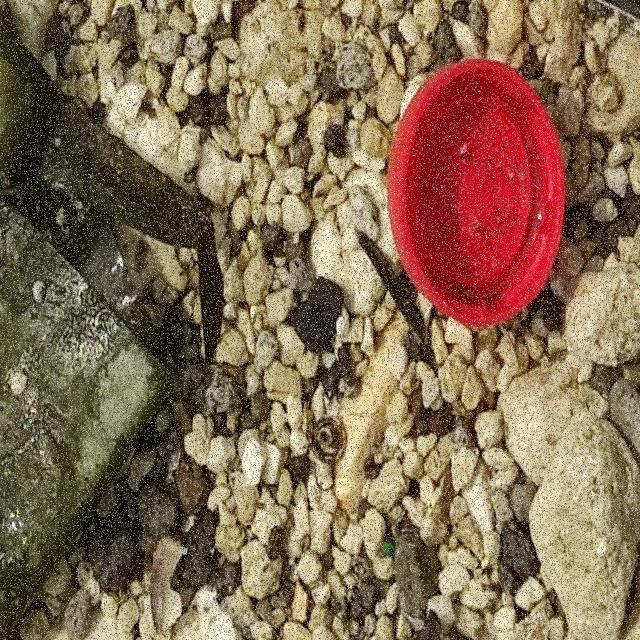plastic_waste: (386, 63, 566, 330)
